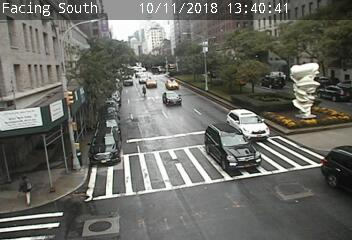car: (205, 123, 261, 171), (227, 109, 270, 141), (89, 127, 120, 166), (318, 85, 350, 102), (259, 76, 284, 89), (163, 92, 181, 106), (166, 79, 179, 90), (146, 79, 157, 88)
